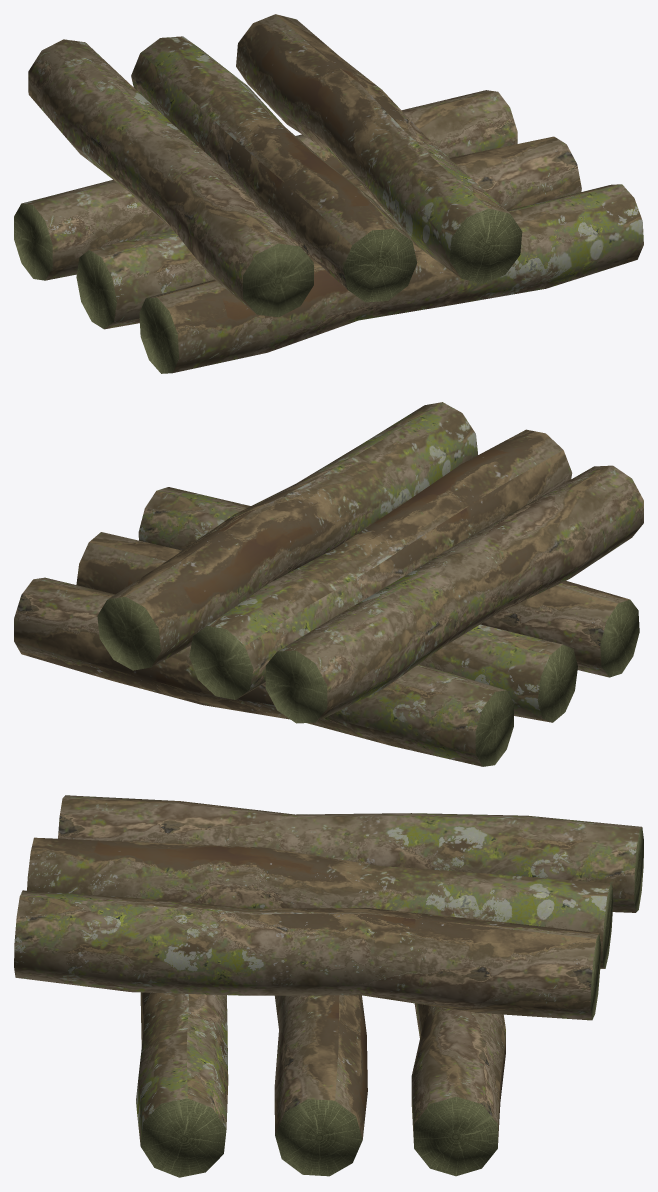
File: logs_low_poly.obj
3 views of the same model, one above another, from view 1: azimuth 30°, elevation 25°; view 2: azimuth 150°, elevation 25°; view 3: azimuth 270°, elevation 25° (orthographic). The views are drawn at different scales.
Visible parts, largest first — view 1: pCylinder4, pCylinder6, pCylinder3, pCylinder5, pCylinder1, pCylinder2; view 2: pCylinder4, pCylinder6, pCylinder5, pCylinder1, pCylinder3, pCylinder2; view 3: pCylinder6, pCylinder5, pCylinder4, pCylinder2, pCylinder3, pCylinder1.
Part boxes in pixels (box(x1,y1,x2,y2)): pCylinder4: box(28, 39, 313, 317); pCylinder6: box(236, 14, 522, 283); pCylinder3: box(139, 184, 643, 373); pCylinder5: box(131, 36, 417, 302); pCylinder1: box(14, 90, 517, 280); pCylinder2: box(76, 136, 581, 329); pCylinder4: box(265, 465, 643, 723); pCylinder6: box(97, 402, 477, 670); pCylinder5: box(189, 429, 572, 699); pCylinder1: box(14, 577, 513, 766); pCylinder3: box(138, 487, 639, 677); pCylinder2: box(76, 532, 577, 722); pCylinder6: box(14, 890, 600, 1020); pCylinder5: box(27, 837, 613, 968); pCylinder4: box(58, 795, 643, 912); pCylinder2: box(274, 995, 367, 1176); pCylinder3: box(136, 992, 228, 1177); pCylinder1: box(411, 1003, 505, 1176).
Size of what is drawn, in the model's own units: 27.31 by 9.22 by 29.63.
2 materials, 2 textured.
